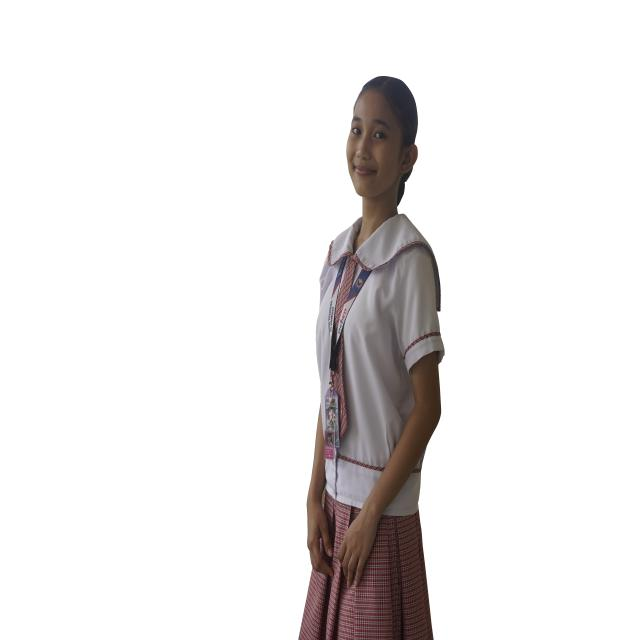id lace: (327, 254, 369, 396)
pologirl: (321, 211, 444, 515)
skirt: (299, 512, 433, 640), (324, 496, 360, 542)
